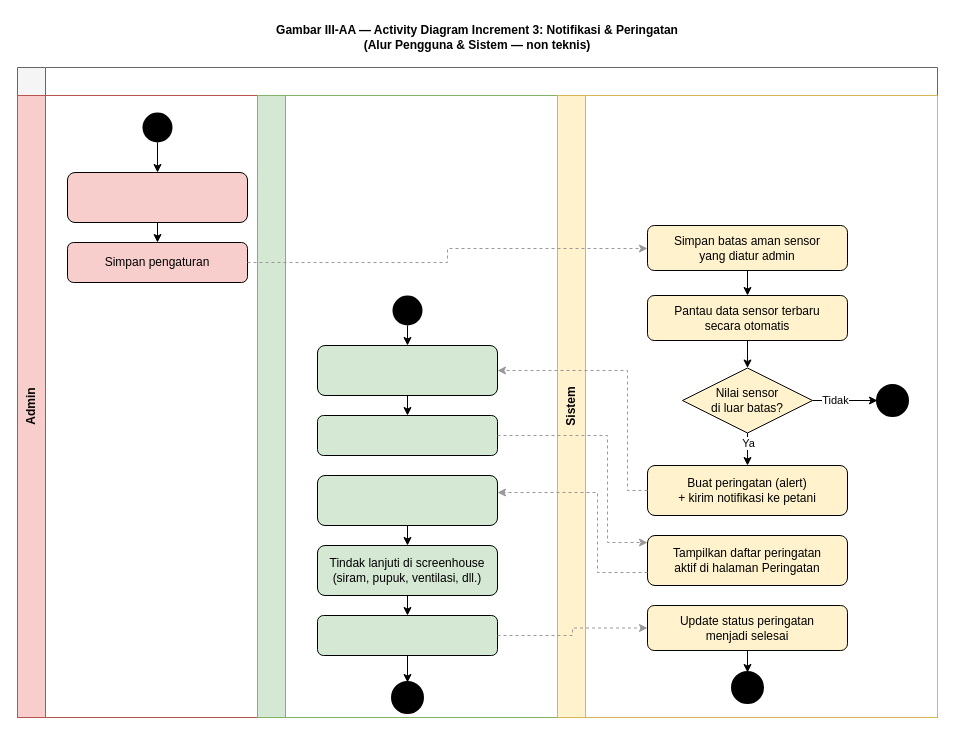
This 955x735 diagram has some shape labels left out. Each missing label, with the box of its shape:
Atur batas aman sensor (threshold) per screenhouse: (66, 172, 248, 222)
Baca detail masalah (parameter mana yang bermasalah): (316, 474, 498, 526)
Buka halaman Peringatan: (316, 414, 498, 456)
Petani: (256, 94, 558, 718)
Tandai peringatan selesai: (316, 614, 498, 656)
Terima notifikasi peringatan di HP / aplikasi: (316, 344, 498, 396)
